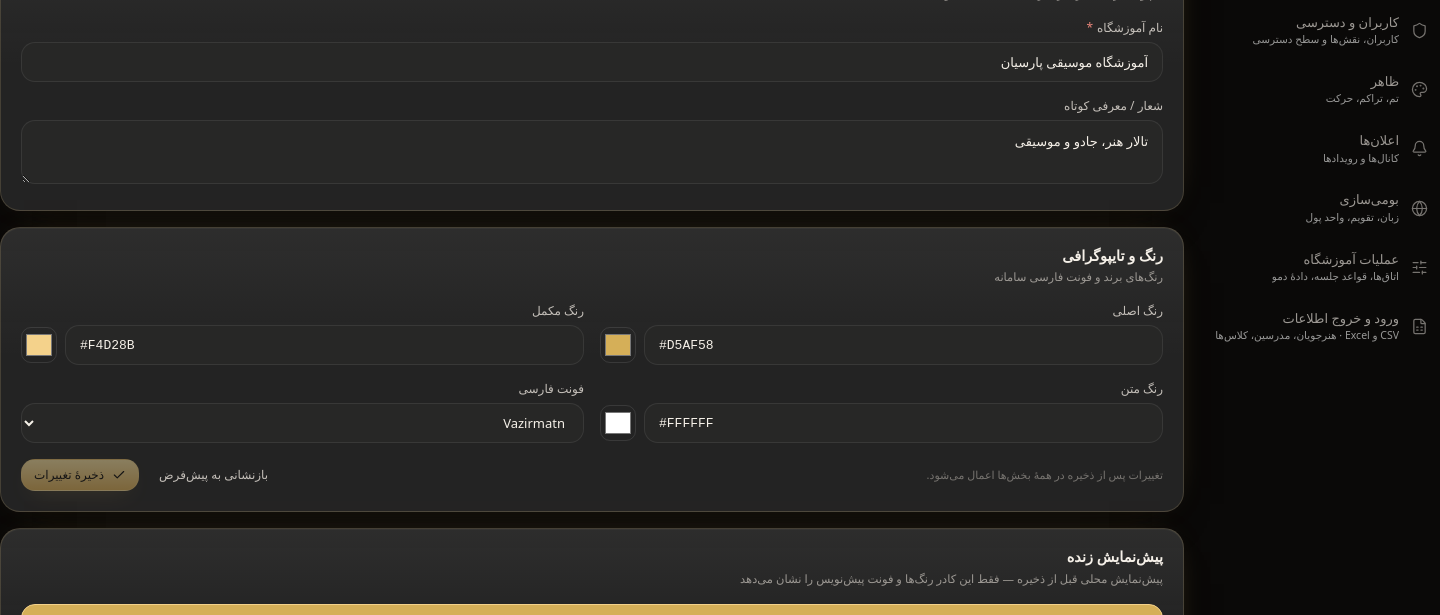
M-6 unimplemented settings do NOT report fake success › session rules are editable, carry the stored values and name their consumers
The width and height of the screenshot is (1440, 615).
Click the button "عملیات آموزشگاه اتاق‌ها، قواعد جلسه، دادهٔ دمو" at (1320, 267), box [1200, 240, 1439, 295]
(page scrolled)
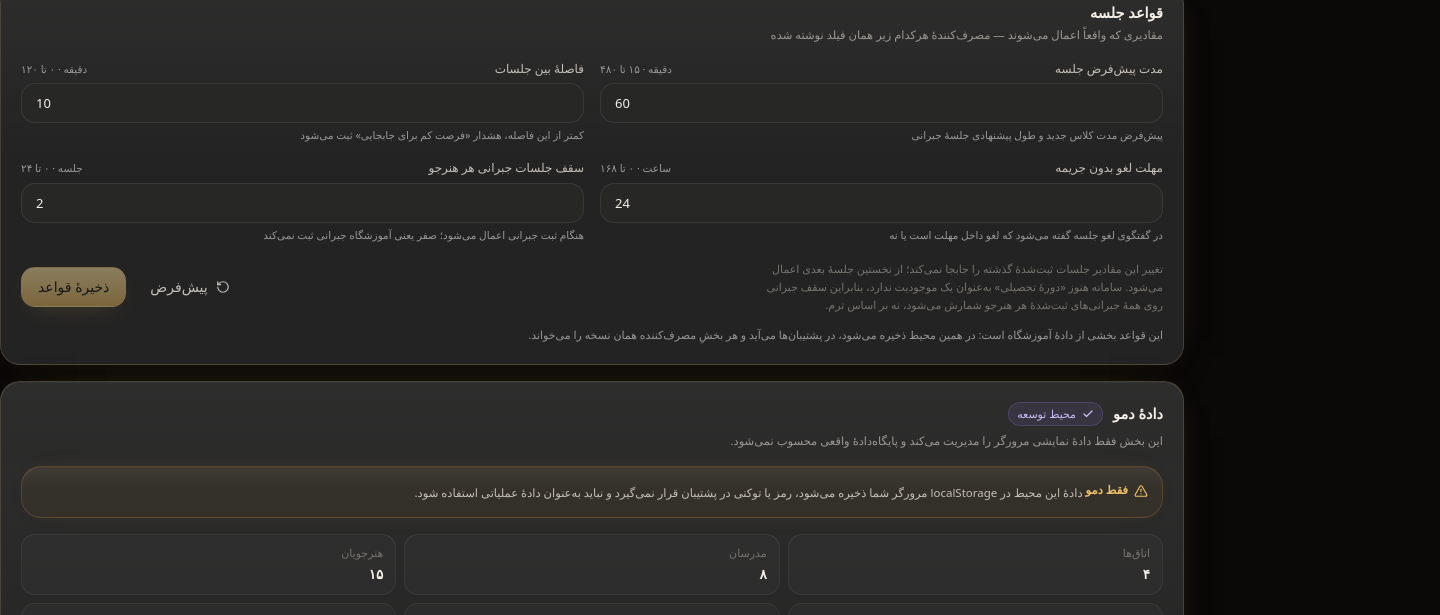
Check: the field labelled "مدت پیش‌فرض جلسه دقیقه · ۱۵ تا ۴۸۰" is enabled, box [600, 83, 1163, 123]
Check: the field labelled "مدت پیش‌فرض جلسه دقیقه · ۱۵ تا ۴۸۰" holds "60", box [600, 83, 1163, 123]
Check: the text "کمتر از این فاصله، هشدار «فرصت کم برای جابجایی» ثبت می‌شود" is shown, box [300, 128, 584, 142]
